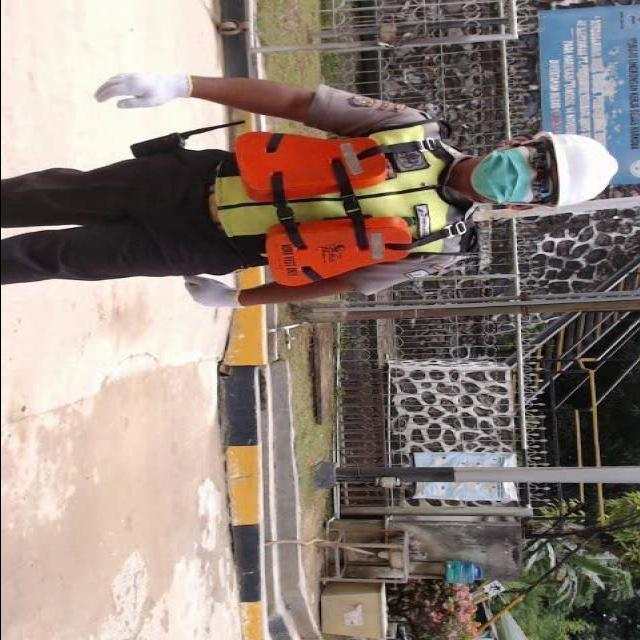helmet: (532, 112, 622, 214)
jacket: (210, 107, 462, 290)
